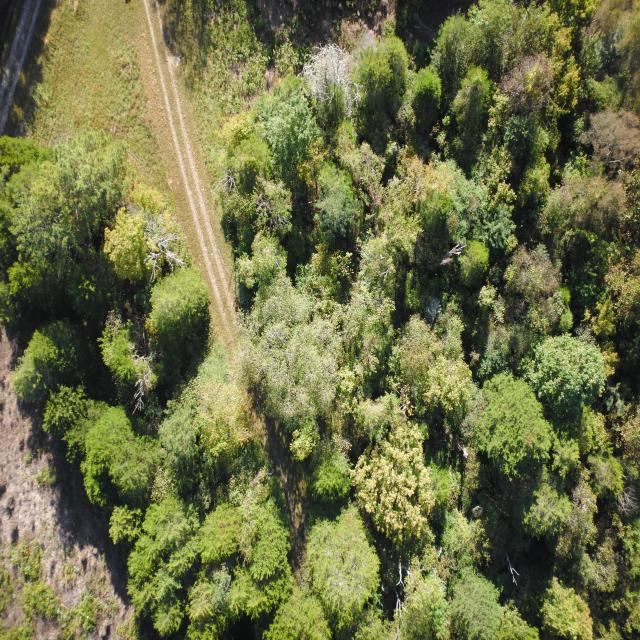Area of Interest: (7, 7, 633, 624)
